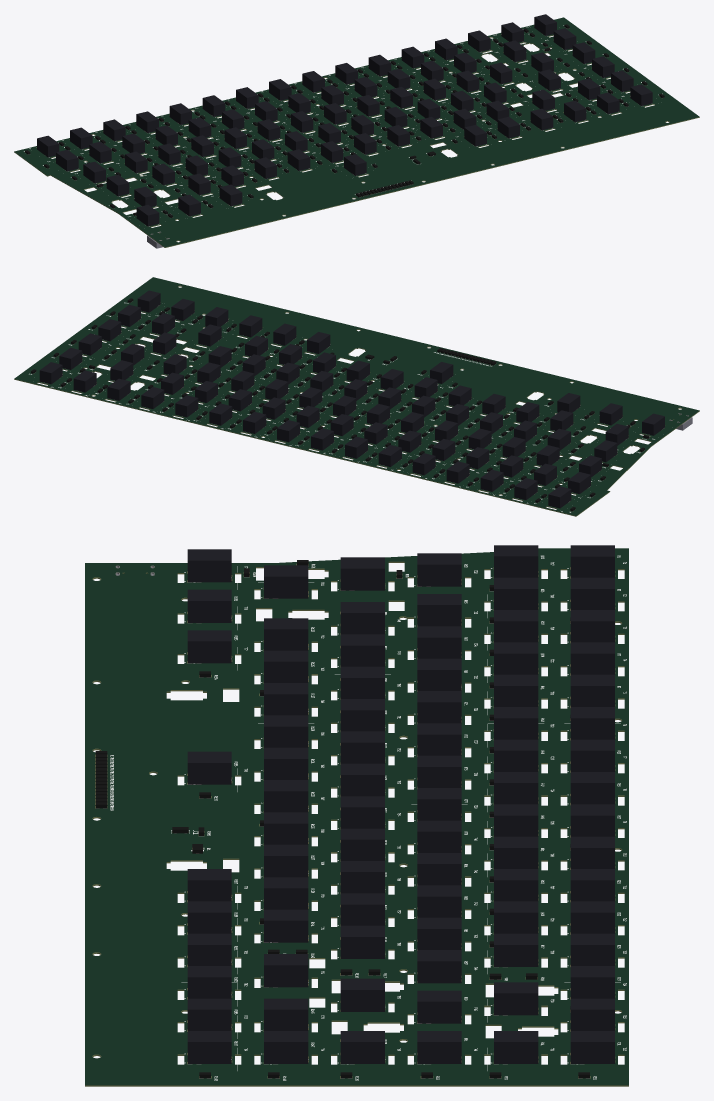
Rendered from commander_keyboard.dae.
The picture shows the model from 3 angles, top to bottom: view 1: azimuth 30°, elevation 25°; view 2: azimuth 150°, elevation 25°; view 3: azimuth 270°, elevation 25°; orthographic projection. The views are drawn at different scales.
Parts seen in each view (by area): view 1: part_03, part_04, part_02, part_07, part_14; view 2: part_03, part_04, part_02, part_07, part_14, part_09; view 3: part_03, part_04, part_07, part_02, part_14.
Boxes of the visible parts, left/top/right/bottom form: part_03: left=14, top=17, right=699, bottom=247; part_04: left=37, top=14, right=652, bottom=226; part_02: left=25, top=24, right=664, bottom=217; part_07: left=14, top=35, right=699, bottom=247; part_14: left=43, top=41, right=662, bottom=226; part_03: left=14, top=277, right=699, bottom=515; part_04: left=39, top=290, right=664, bottom=508; part_02: left=31, top=298, right=649, bottom=511; part_07: left=14, top=285, right=699, bottom=516; part_14: left=51, top=302, right=654, bottom=497; part_09: left=31, top=301, right=688, bottom=507; part_03: left=85, top=548, right=628, bottom=1085; part_04: left=187, top=545, right=614, bottom=1063; part_07: left=85, top=561, right=628, bottom=1086; part_02: left=95, top=560, right=589, bottom=1078; part_14: left=110, top=555, right=544, bottom=1080.
Size of the model in its own units: 315 by 135 by 9.75.
